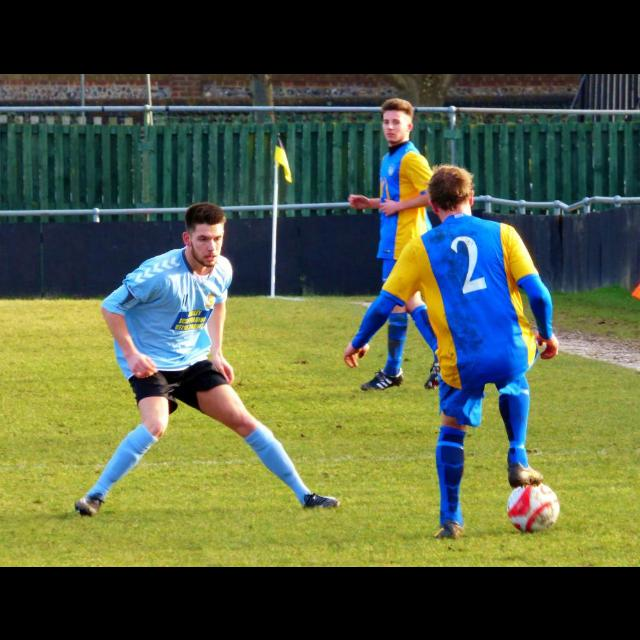Football: (506, 482, 560, 530)
